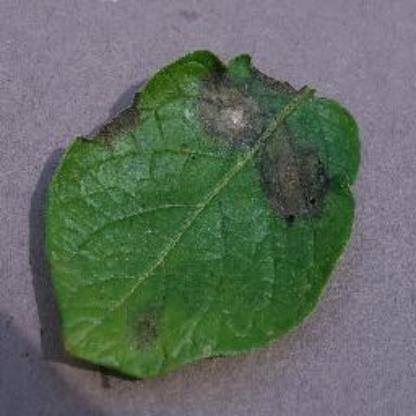Late-Blight: (31, 34, 381, 392)
